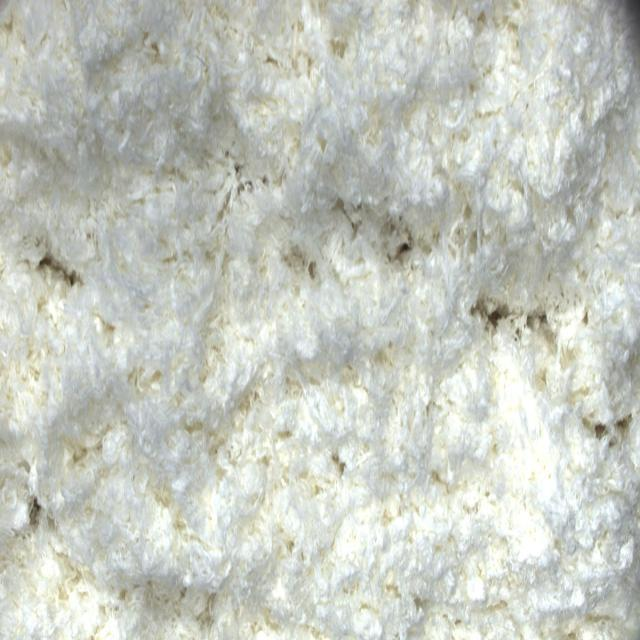dust: (31, 254, 94, 299), (472, 285, 521, 336), (581, 416, 632, 442), (394, 229, 414, 267), (29, 498, 46, 532)
